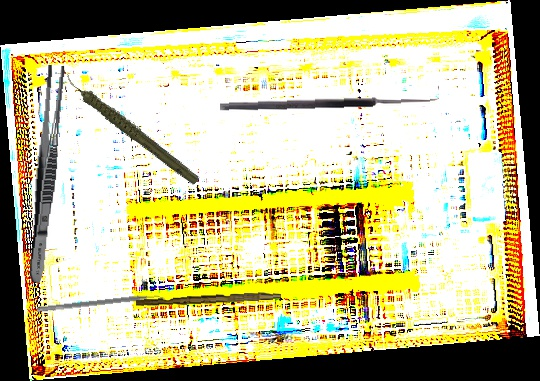Dressing Forceps: (25, 64, 67, 284)
Handpiece: (62, 47, 202, 208)
Hook Surgical: (219, 84, 440, 113)
Scalpel Handle: (135, 288, 282, 310)
Spatula Surgical: (36, 291, 166, 318)
